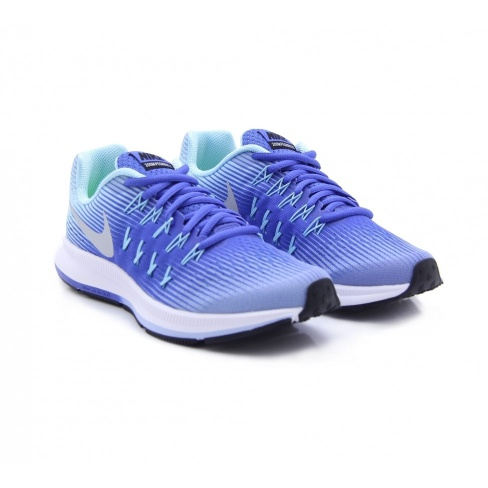nike: (70, 202, 122, 259)
